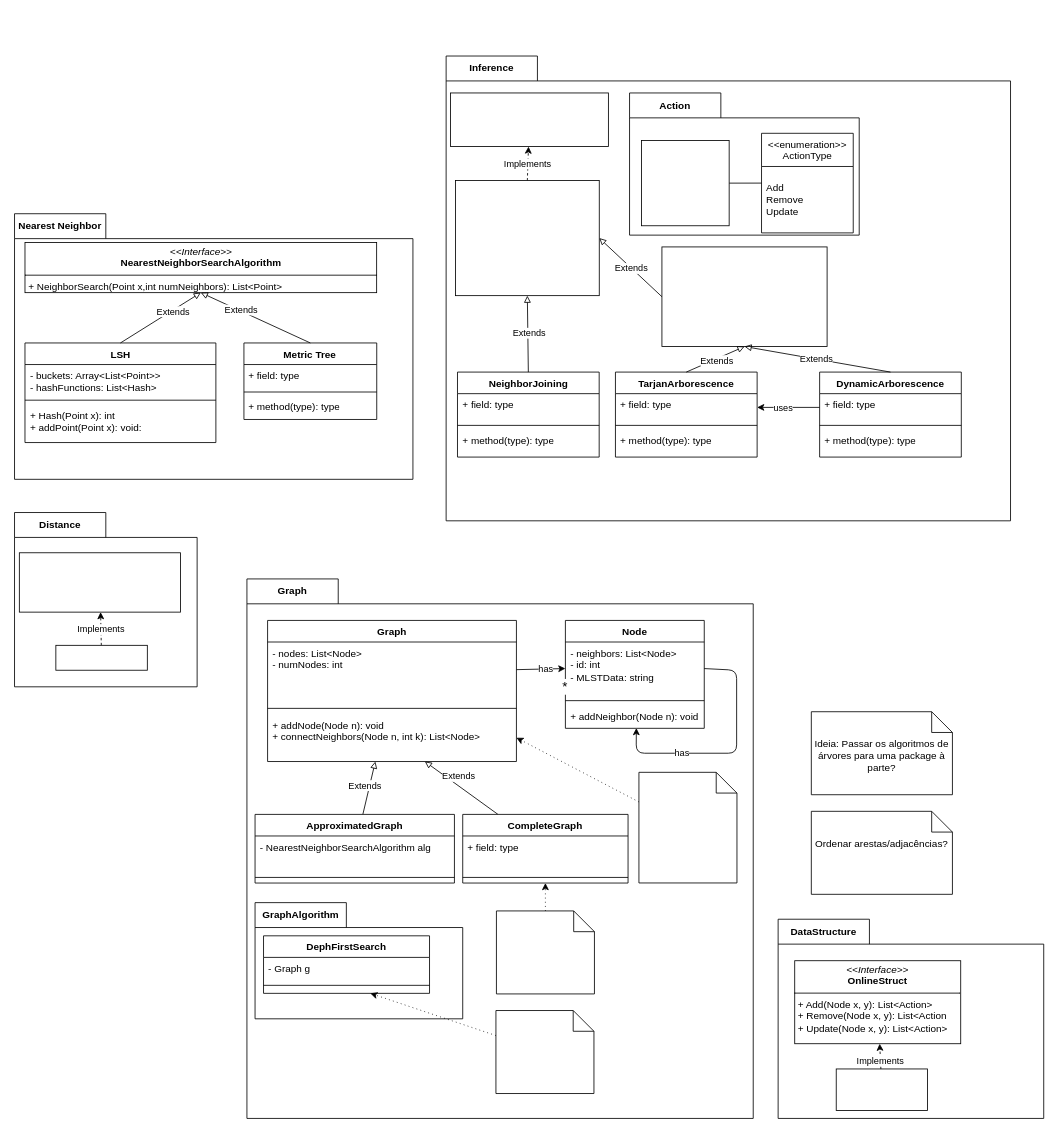
Some shapes in this 1058 by 1133 pixel diagram are drawn without their labels. The shapes that lost their labels are listed below. From the top down, each one's centre as x and y in pixels, then its label:
At [529,119]: "<<Interface>> InferenceAlgorithm + InferPhylogeny(Graph g): Graph".
At [685,183]: "Action + ActionType type + int: weight + Node u + Node v".
At [527,238]: "<<Abstract>> StaticMethod - Graph g + InferPhylogeny(Graph g): Graph".
At [744,296]: "<<Abstract>> OnlineMethod - OnlineStruct state + Update(Node n): List<Action>".
At [100,582]: "<<Interface>> DistanceFunction + compute(Point x, Point y): double".
At [101,657]: "HammingDistance".
At [687,827]: "Implementar com uma lista de adjacências".
At [545,952]: "Guardar o triângulo inferior".
At [544,1052]: "Encontrar strongly connected components".
At [881,1089]: "ATree".
